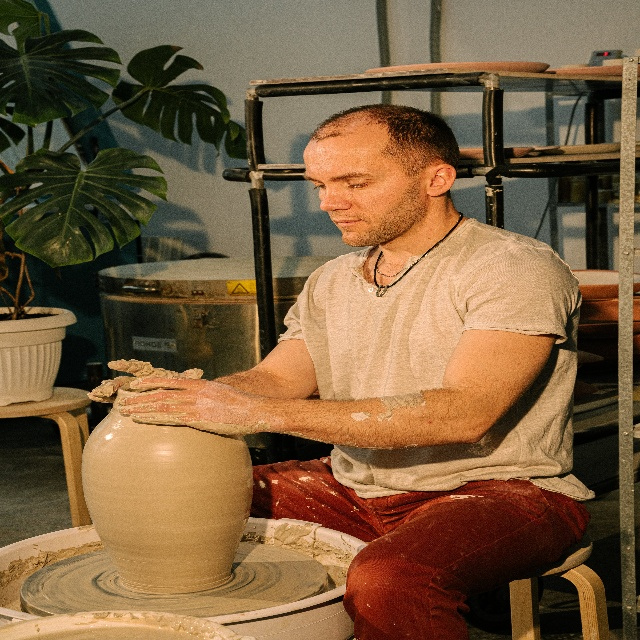Sin_guantes: (119, 375, 257, 433), (88, 356, 202, 404)
